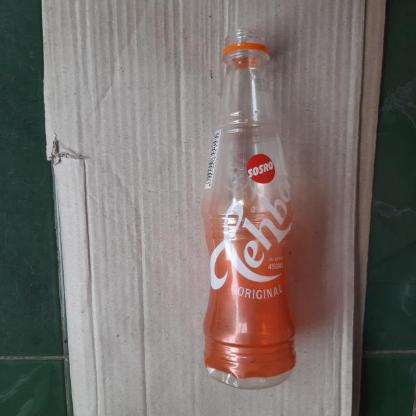Plastic Bottle: (182, 4, 324, 394)
